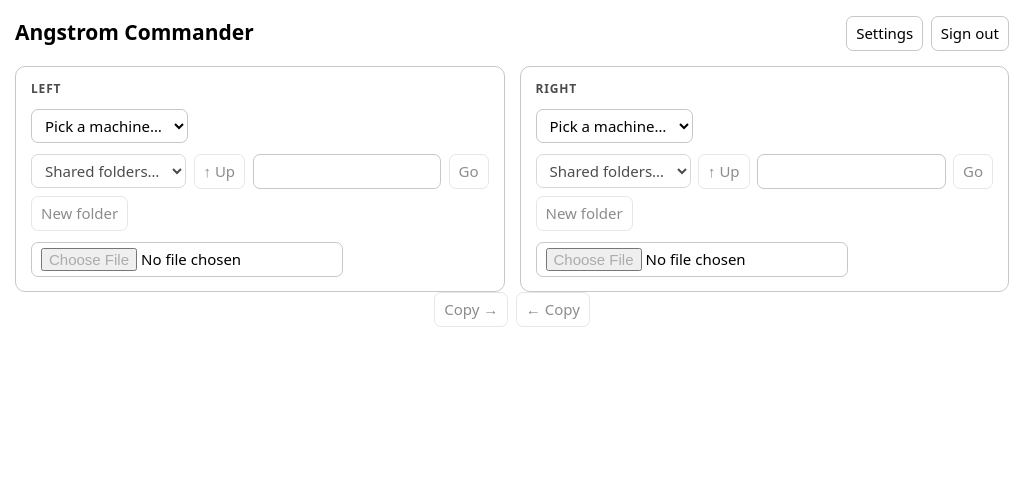
Test case: copies the selected file to the other machine without downloading it
Select "Home PC" in the dropdown named "Left: machine": (110, 126) [31,108,188,143]
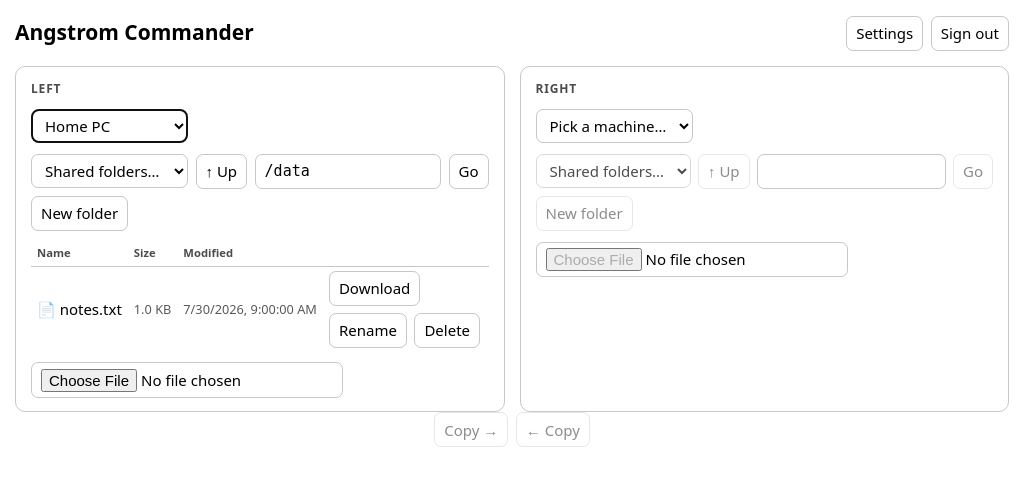
Select "Laptop" in the dropdown named "Right: machine": (614, 126) [536,108,692,143]
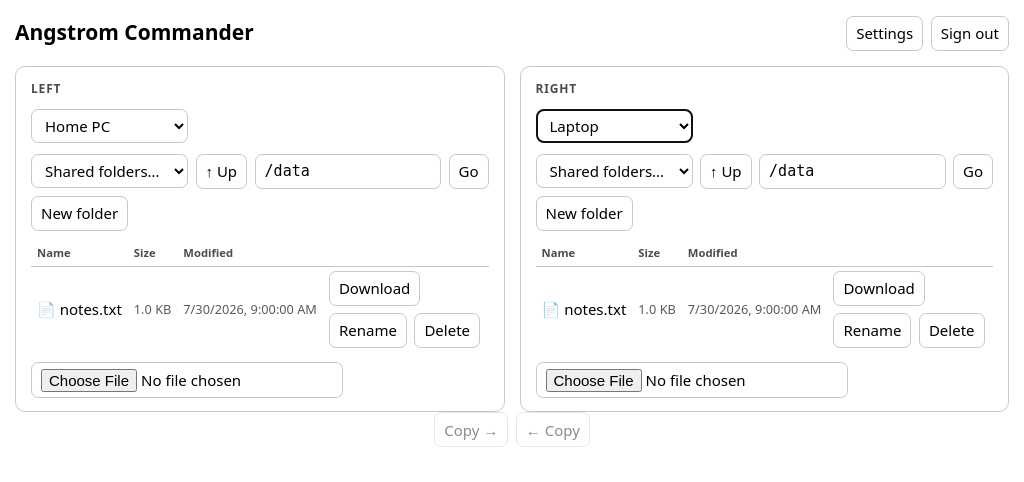
Click the text "📄 notes.txt" below "Left": (79, 309) [31,266,128,352]
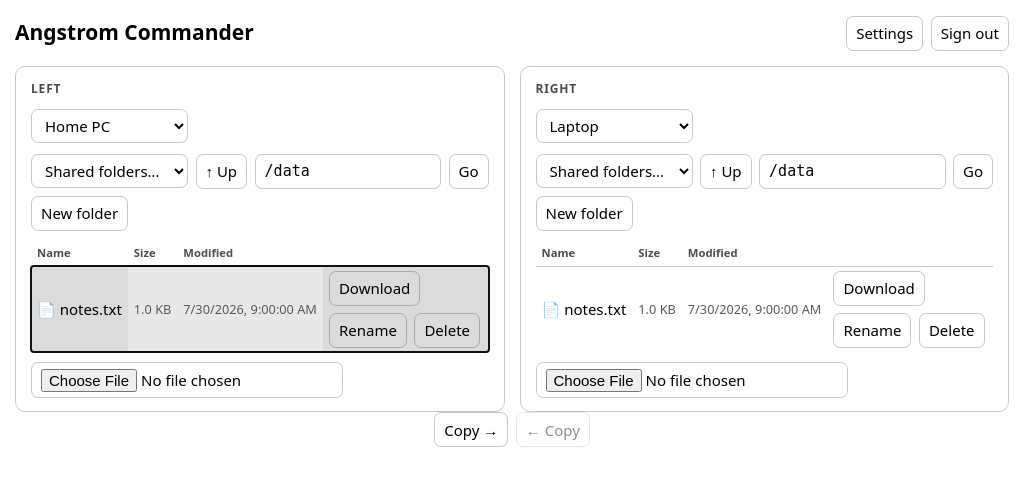
Click the button "Copy →": (471, 430) [434,412,508,447]
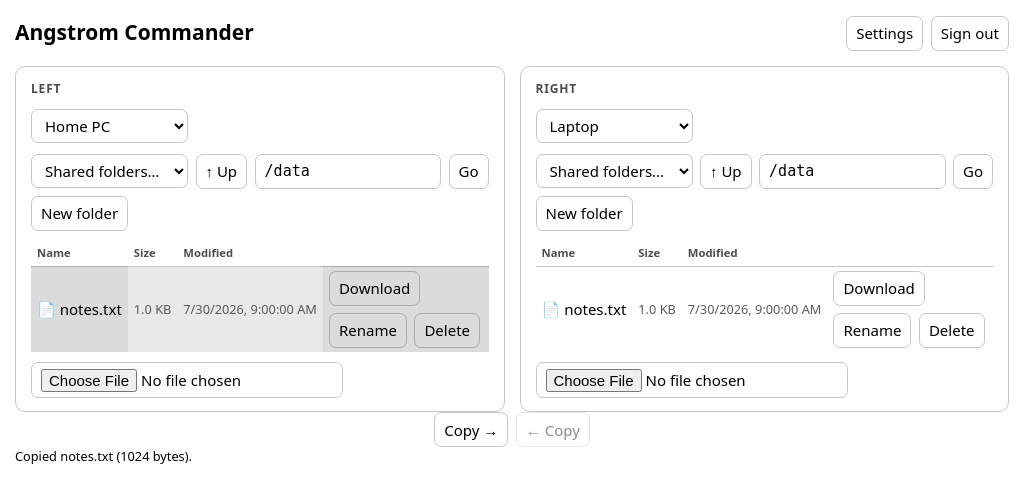
Result: the text "Copied notes.txt (1024 bytes)." is shown at [15,447,192,465]
